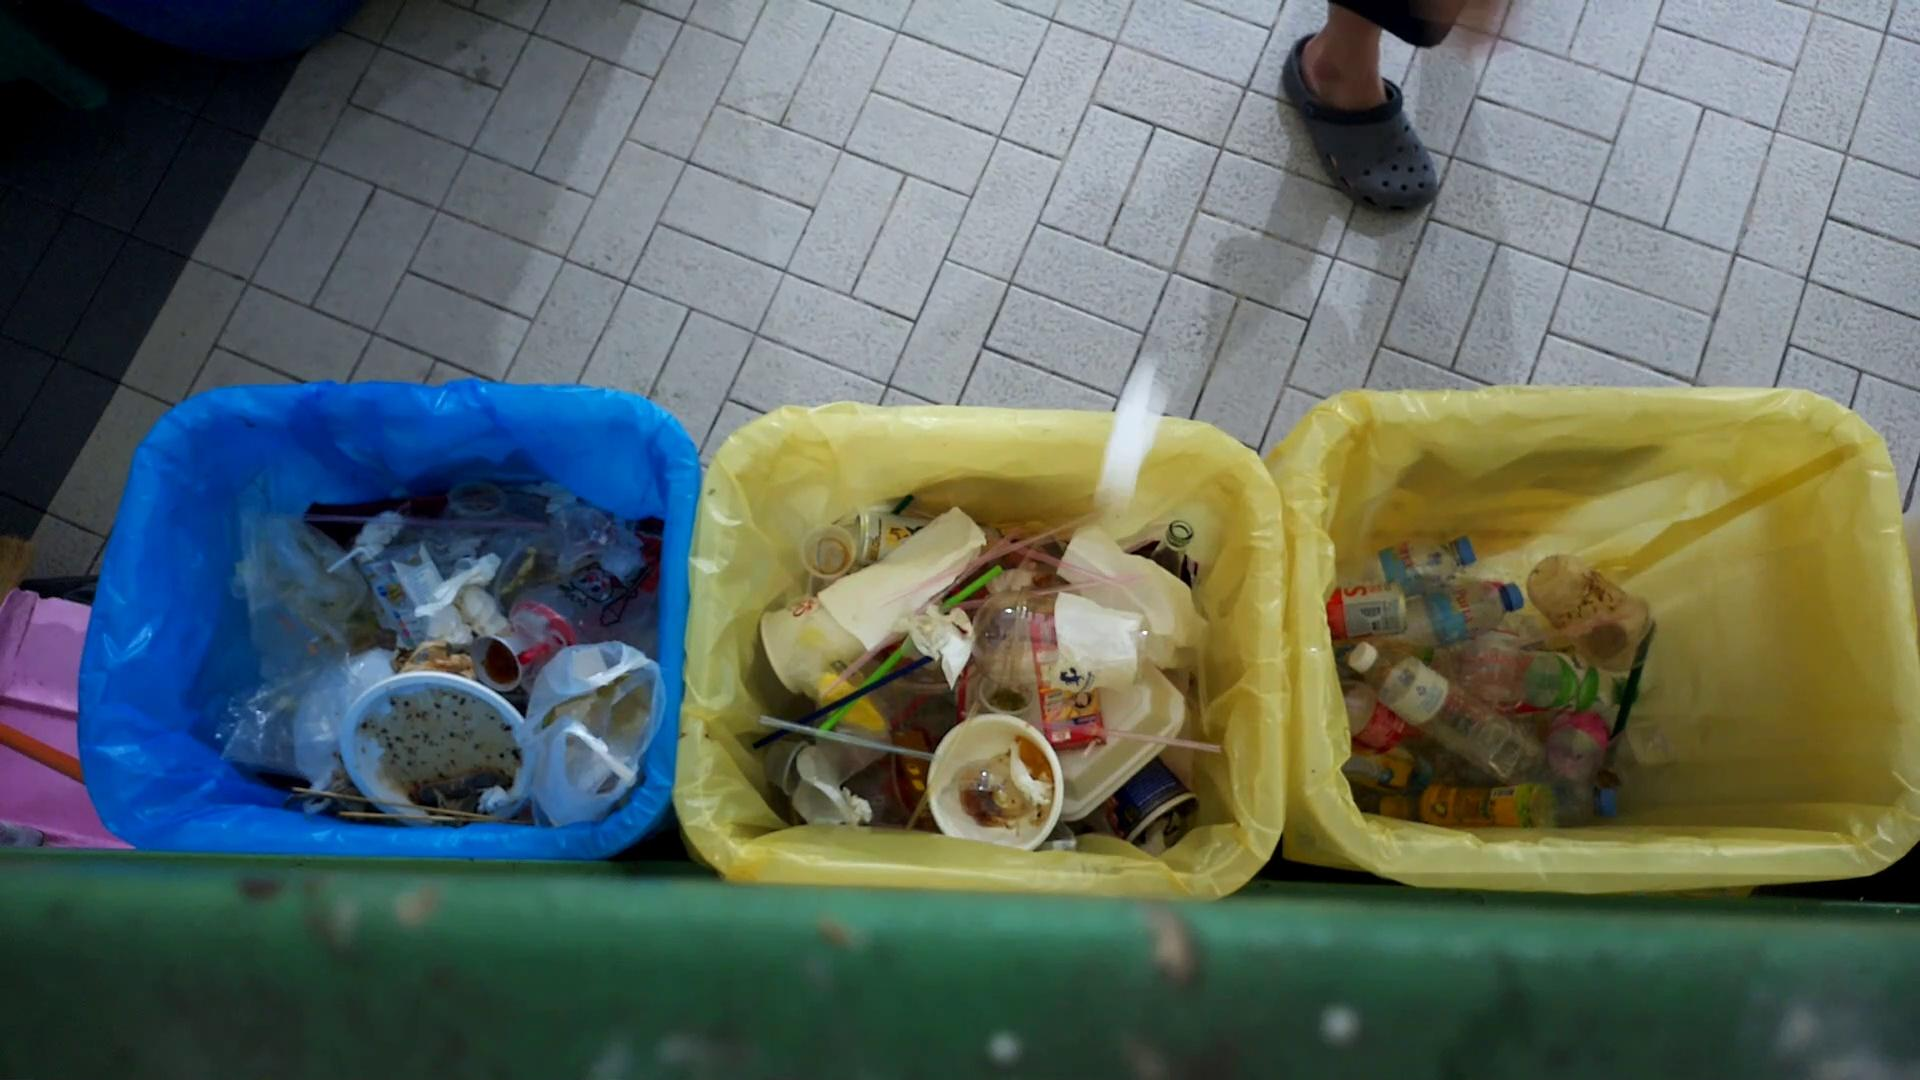dirty food container: (338, 673, 534, 827)
food container: (928, 713, 1064, 852), (460, 628, 525, 691), (802, 521, 860, 575)
plastic bottle: (1331, 629, 1519, 761), (1386, 778, 1555, 822)
plastic cup: (967, 587, 1149, 691), (1524, 556, 1656, 669), (938, 758, 1038, 831)
sticks: (284, 774, 487, 824), (334, 814, 537, 824)
straw: (814, 529, 1022, 694), (815, 559, 996, 738), (870, 508, 1100, 634), (762, 641, 952, 745), (757, 713, 1000, 775), (919, 572, 1146, 613), (1014, 720, 1222, 760)
tissue paper: (389, 551, 508, 653), (1091, 359, 1170, 502), (1047, 589, 1146, 692), (894, 601, 973, 700), (996, 731, 1048, 800), (844, 789, 887, 836)
